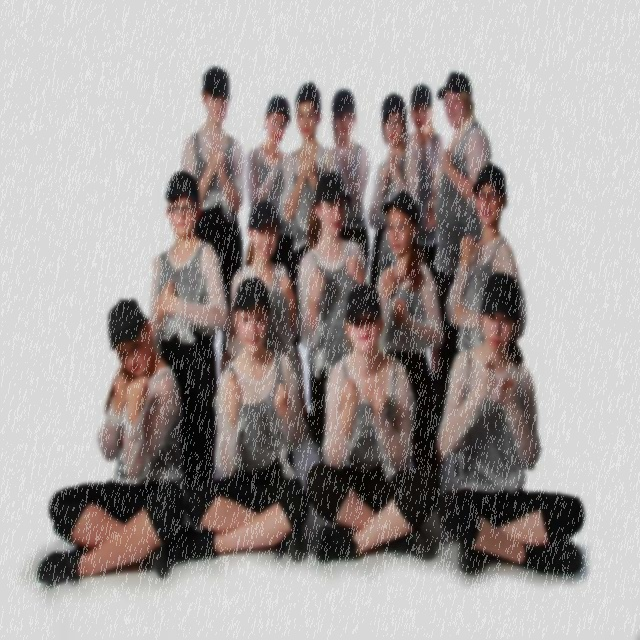pessoa: (436, 271, 586, 576), (36, 298, 188, 586), (169, 276, 309, 562), (305, 284, 440, 564), (148, 170, 228, 492), (429, 70, 493, 407), (373, 189, 445, 482), (179, 66, 245, 380), (297, 172, 367, 466), (223, 202, 304, 417), (446, 163, 527, 353), (280, 80, 337, 291), (366, 93, 421, 289), (318, 87, 371, 280), (404, 82, 445, 284), (245, 95, 292, 266)
